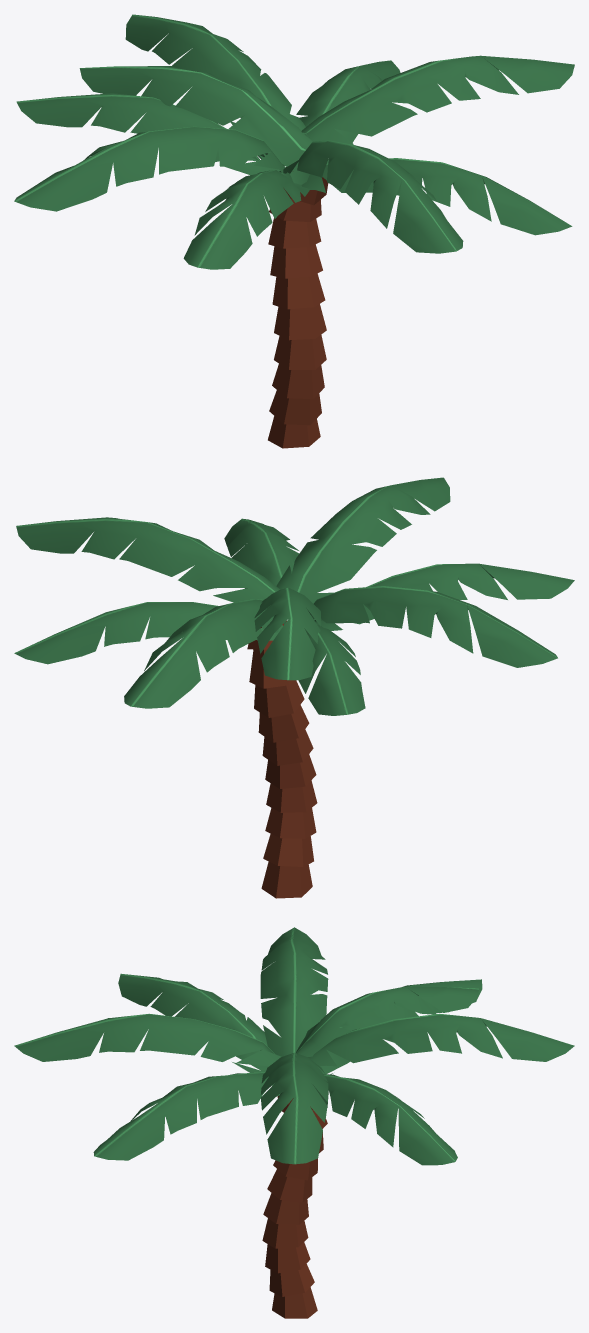
Rendered from coconuttree.fbx.
3 views of the same model, one above another, from view 1: azimuth 30°, elevation 25°; view 2: azimuth 150°, elevation 25°; view 3: azimuth 270°, elevation 25° (orthographic). The views are drawn at different scales.
Visible parts, largest first — view 1: Folha, Caule; view 2: Folha, Caule; view 3: Folha, Caule.
Boxes of the visible parts, x1,y1,x2,y2 form: Folha: (14,14,574,269); Caule: (268,167,328,448); Folha: (14,477,574,715); Caule: (247,620,317,898); Folha: (14,927,574,1165); Caule: (262,1096,327,1318).
Size of the model in its own units: 2431 by 1429 by 2431.
